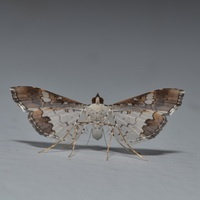insect: (10, 86, 184, 159)
